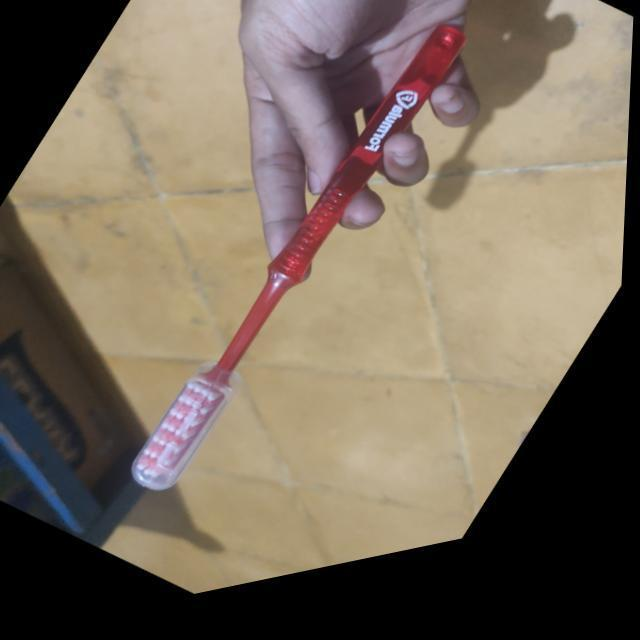toothbrush: (92, 0, 510, 560)
